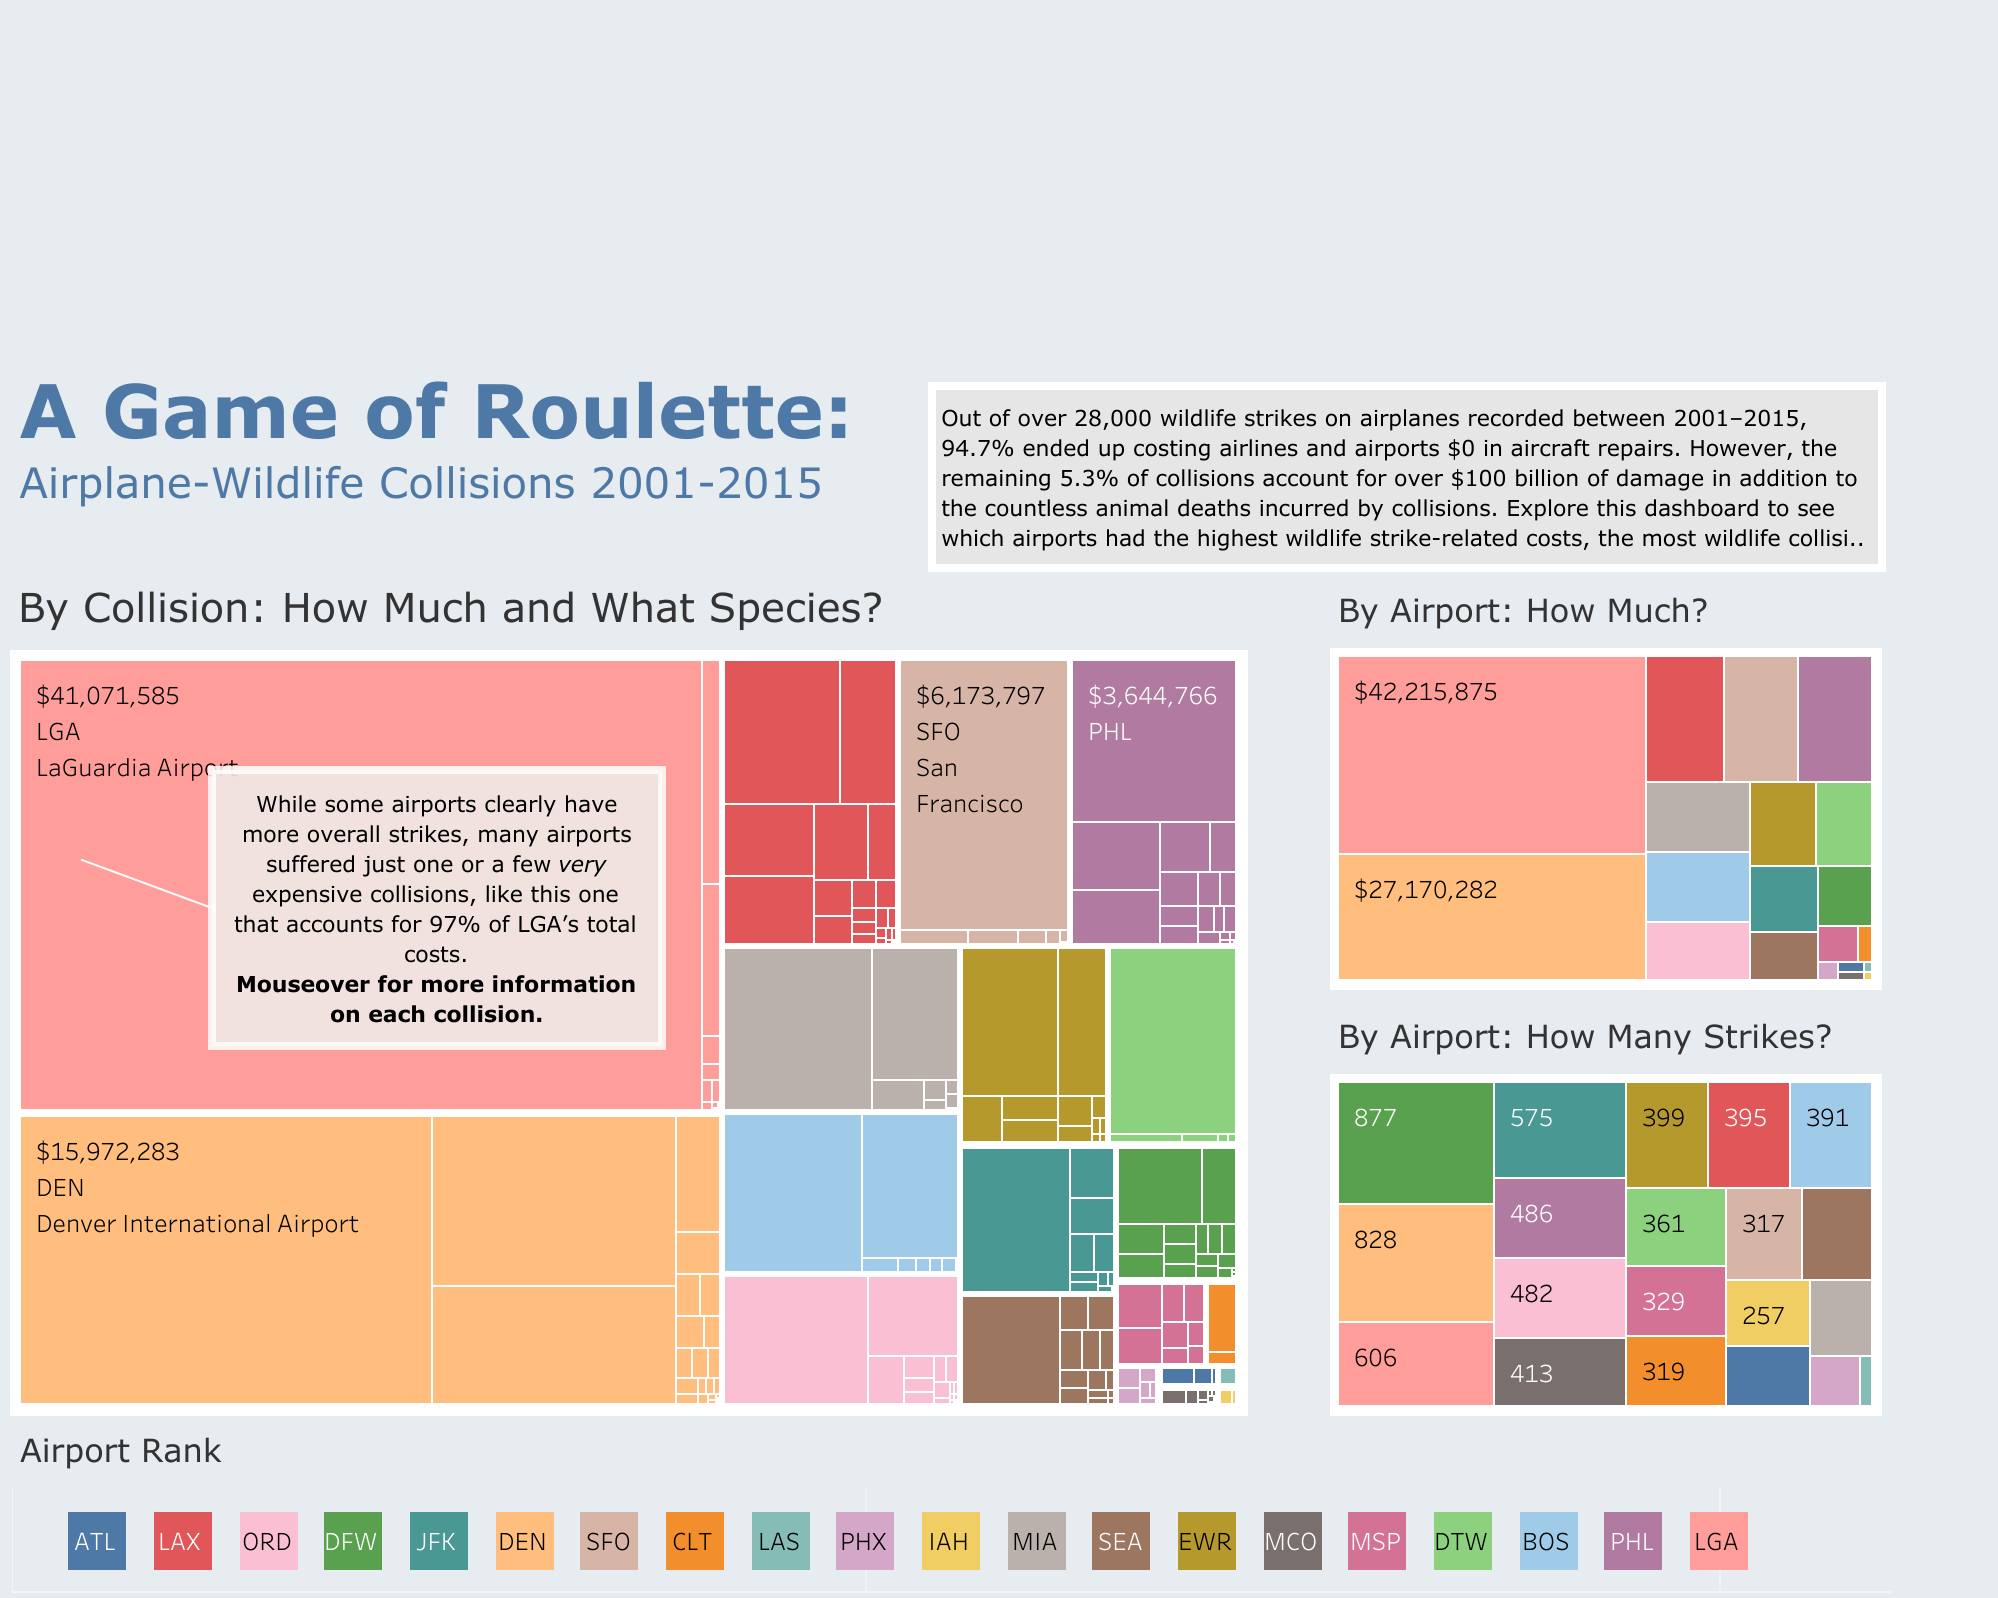

This screenshot's page, from the dashboard's own definition file:
{"tool":"tableau","page":{"name":"Dashboard 1","canvas":[1000,800],"ordinal":0},"visuals":[{"type":"blank","box":[8,134,990,104]},{"type":"text","box":[7,146,994,142]},{"type":"text","box":[464,191,479,95]},{"type":"worksheet","title":"How Much and What Species?","mark":"Automatic","box":[5,284,702,424]},{"type":"worksheet","title":"How Much?","mark":"Automatic","box":[665,288,308,207]},{"type":"worksheet","title":"How Many Strikes?","mark":"Automatic","box":[665,501,306,207]}]}

Visuals, with their boxes in screenshot pixels (x1, y1, x2, y2), scaled from the page's 1000x800 canvas onto the 1998x1598 screenshot:
blank: box(16, 268, 1994, 475)
text: box(14, 292, 1997, 575)
text: box(927, 382, 1884, 571)
"How Much and What Species?" worksheet: box(10, 567, 1413, 1414)
"How Much?" worksheet: box(1329, 575, 1944, 989)
"How Many Strikes?" worksheet: box(1329, 1001, 1940, 1414)
